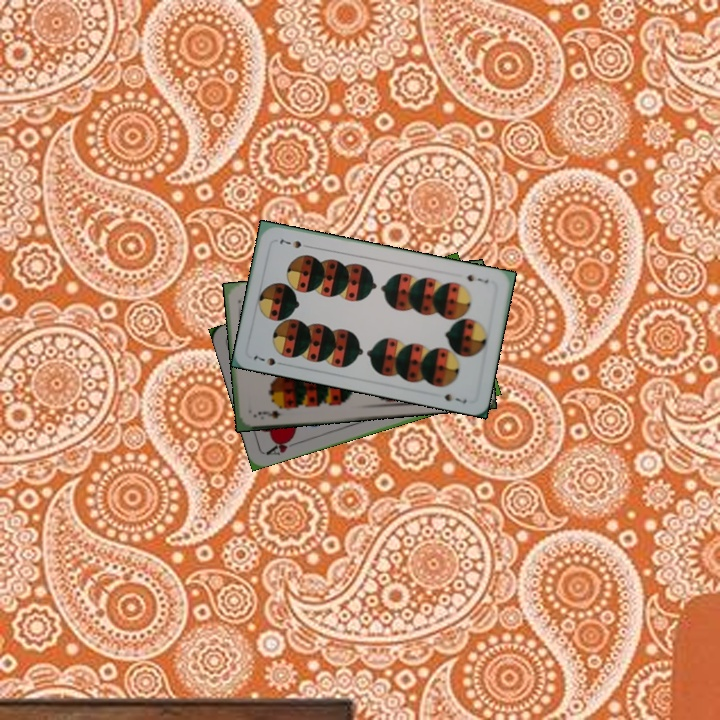HA: (262, 433, 302, 458)
S7: (250, 351, 288, 368), (463, 270, 491, 286)
S9: (254, 406, 283, 421)
